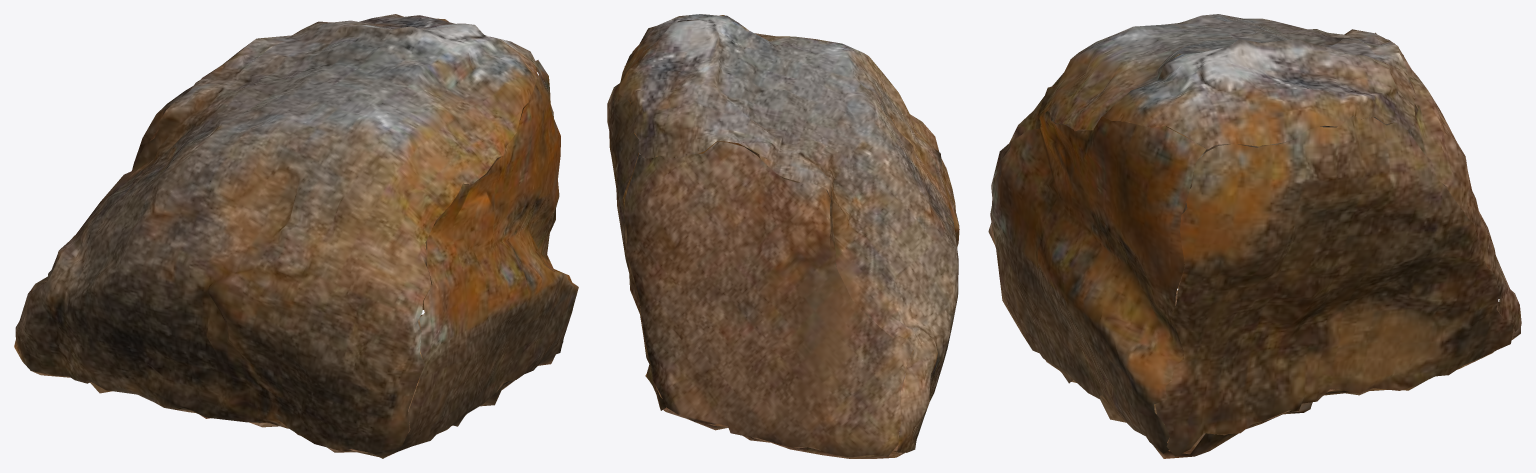
Rendered from boulderB.glb.
3 views of the same model, side by side, from view 1: azimuth 30°, elevation 25°; view 2: azimuth 150°, elevation 25°; view 3: azimuth 270°, elevation 25° (orthographic). The views are drawn at different scales.
Parts seen in each view (by area): view 1: boulder_04; view 2: boulder_04; view 3: boulder_04.
Boxes of the visible parts, x1=… form: boulder_04: x1=14, y1=14, x2=578, y2=458; boulder_04: x1=607, y1=14, x2=959, y2=458; boulder_04: x1=988, y1=14, x2=1521, y2=458.
Size of the model in its own units: 2.52 by 1.9 by 2.49.
Materials: 1 (1 with a texture image).
